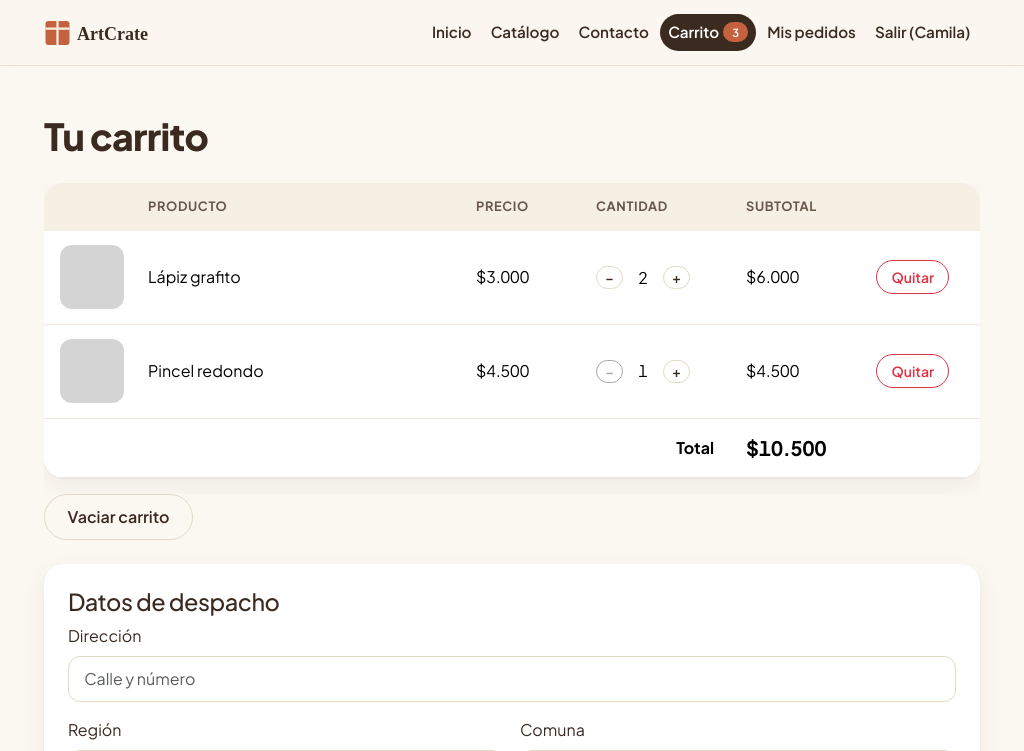
Test case: Carrito › aumentar la cantidad usa la respuesta del servidor para el subtotal, el total y el contador
Click the button named "Aumentar cantidad de Lápiz grafito".
click(676, 278)  # box [663,266,690,289]
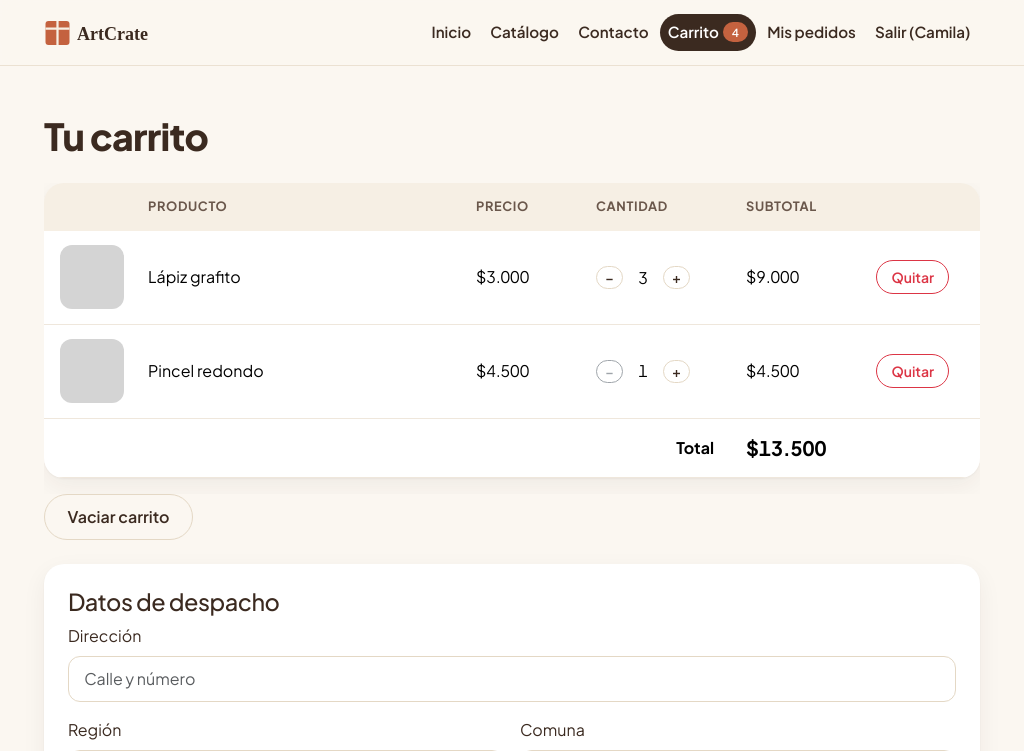
Result: the text "$9.000" is shown at [730,231,860,324]
Result: the column heading "$13.500" is shown at [730,418,860,478]
Result: the text named "4 productos en el carrito" is shown at [723,22,748,42]
